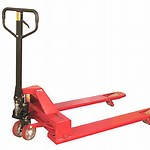Pallet Jack: (1, 6, 150, 146)
